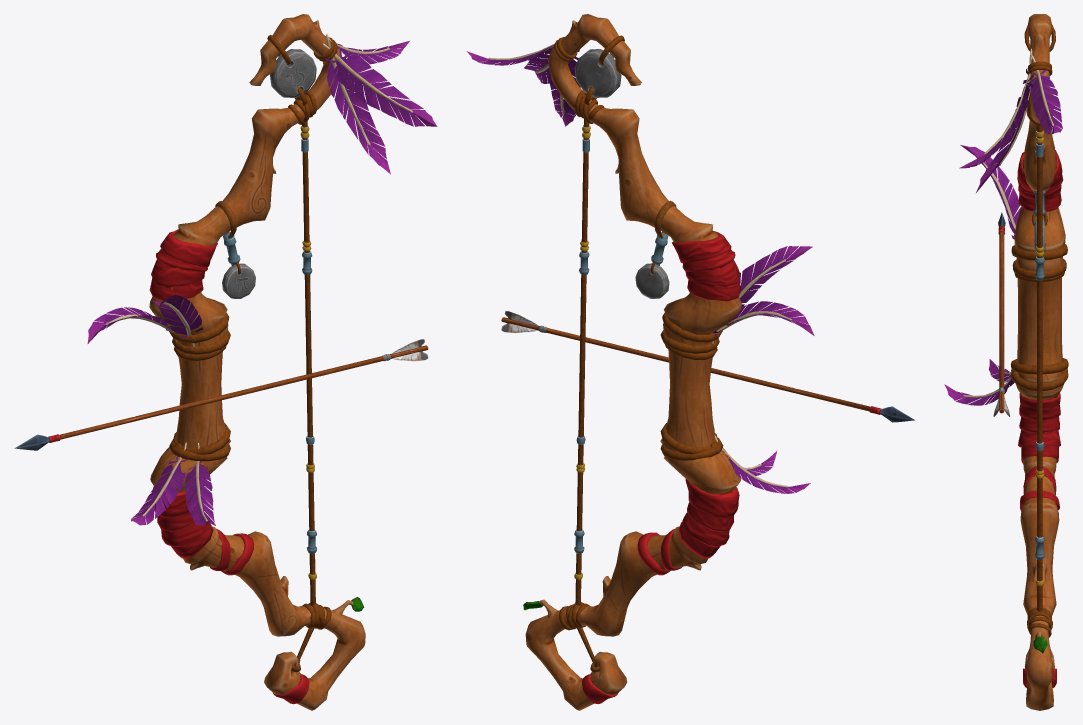
Rendered from bow-hunter.glb.
3 renders of one model, left to right at view 1: azimuth 30°, elevation 25°; view 2: azimuth 150°, elevation 25°; view 3: azimuth 270°, elevation 25°, orthographic.
Parts seen in each view (by area): view 1: Bow_low, Plumas_low, Vendas_low, Cuerdas_low, Arrow_low, PiedraBig_low, Piedra_low, Accesorios_low, Abalorio_low; view 2: Bow_low, Vendas_low, Cuerdas_low, Plumas_low, Arrow_low, PiedraBig_low, Piedra_low, Accesorios_low; view 3: Bow_low, Cuerdas_low, Plumas_low, Vendas_low, Arrow_low, Accesorios_low, Abalorio_low, Leave_low.
Boxes of the visible parts, x1,y1,x2,y2 form: Bow_low: (149, 14, 365, 710); Plumas_low: (87, 33, 437, 525); Vendas_low: (149, 229, 309, 704); Cuerdas_low: (169, 35, 337, 672); Arrow_low: (14, 339, 428, 450); PiedraBig_low: (270, 49, 316, 97); Piedra_low: (222, 263, 255, 298); Accesorios_low: (300, 125, 316, 579); Abalorio_low: (215, 201, 240, 274); Bow_low: (525, 14, 741, 710); Vendas_low: (582, 231, 741, 703); Cuerdas_low: (554, 35, 723, 671); Plumas_low: (466, 44, 814, 493); Arrow_low: (501, 311, 914, 422); PiedraBig_low: (574, 49, 621, 97); Piedra_low: (635, 263, 669, 298); Accesorios_low: (574, 125, 590, 579); Bow_low: (1014, 14, 1065, 710); Cuerdas_low: (1010, 24, 1068, 637); Plumas_low: (944, 48, 1062, 405); Vendas_low: (1017, 150, 1063, 687); Arrow_low: (993, 212, 1010, 416); Accesorios_low: (1034, 130, 1044, 585); Abalorio_low: (1023, 159, 1056, 225); Leave_low: (1033, 632, 1047, 653).
Bounding box in the file's own units: 0.7411 × 1.16 × 0.1907.
Materials: 1 (1 with a texture image).
